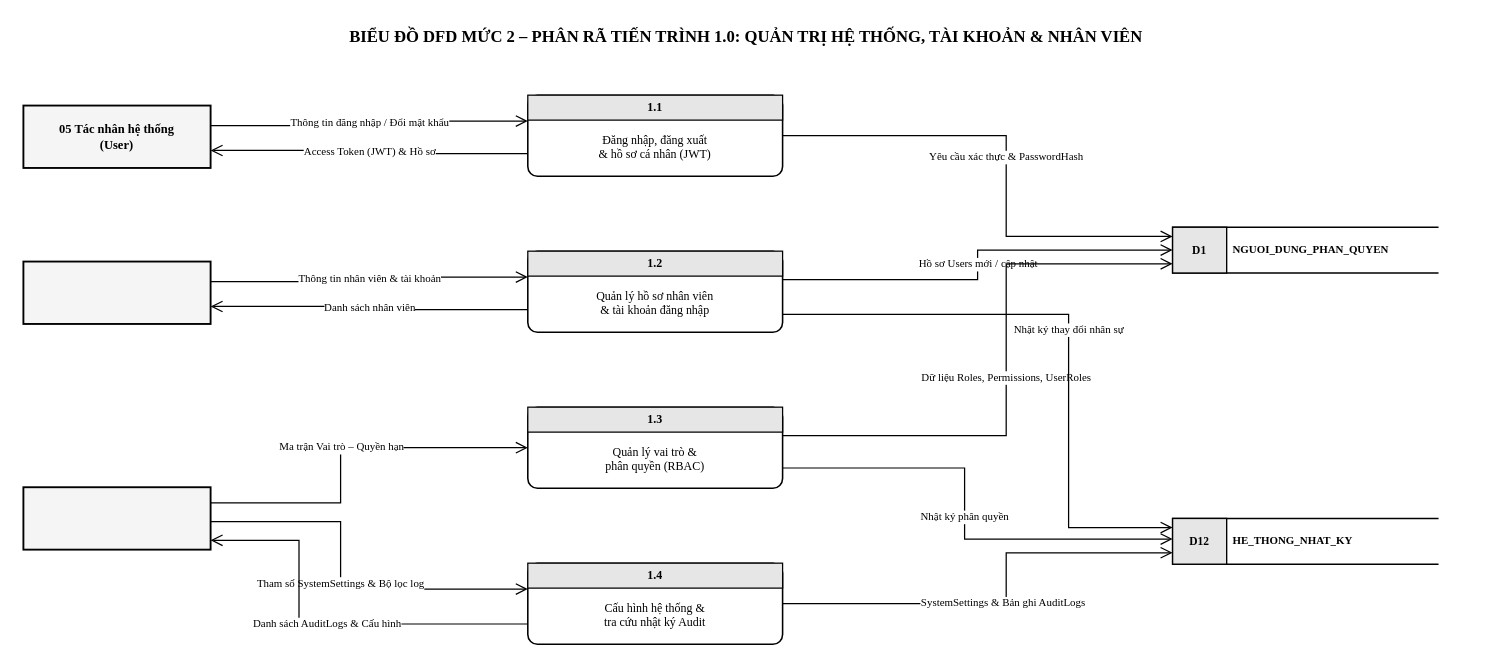
The diagram is 1491 pixels wide and 662 high, and some of its shapes have lost their labels. Each missing label, with the centre of its shape:
Chủ quán (ADMIN): the point at 116,518
Quản lý (MANAGER): the point at 116,292
